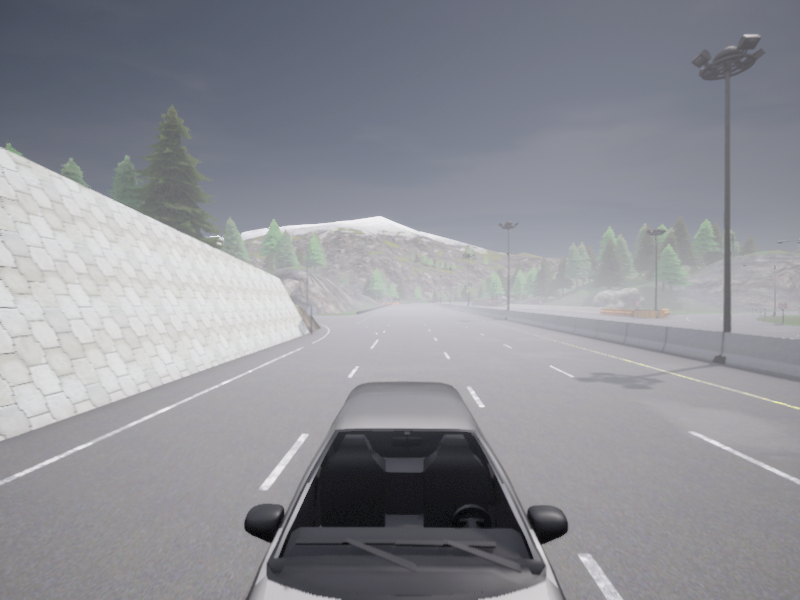vehicle: (244, 382, 567, 599)
